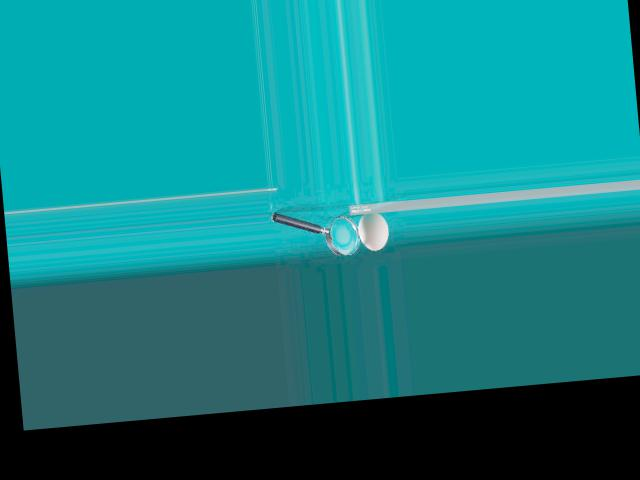egg: (357, 211, 390, 252)
